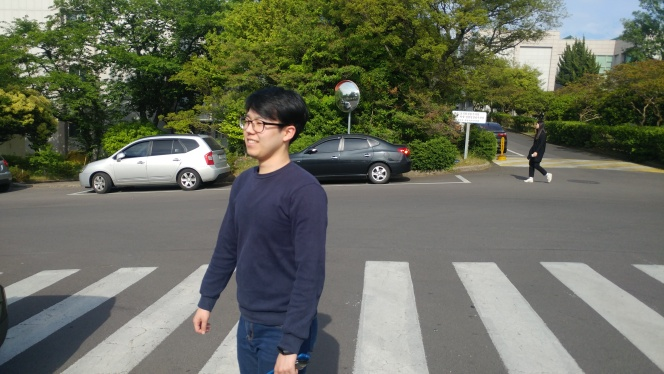KMG: (233, 79, 307, 165)
